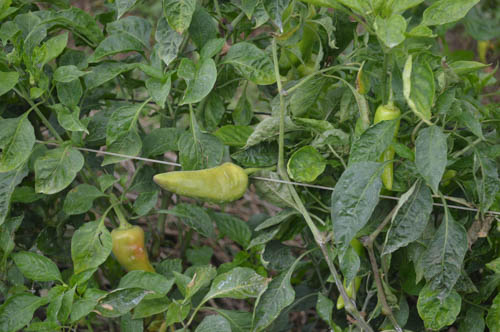ChiliPepper: (150, 166, 251, 203), (372, 109, 401, 190), (111, 229, 152, 273)
